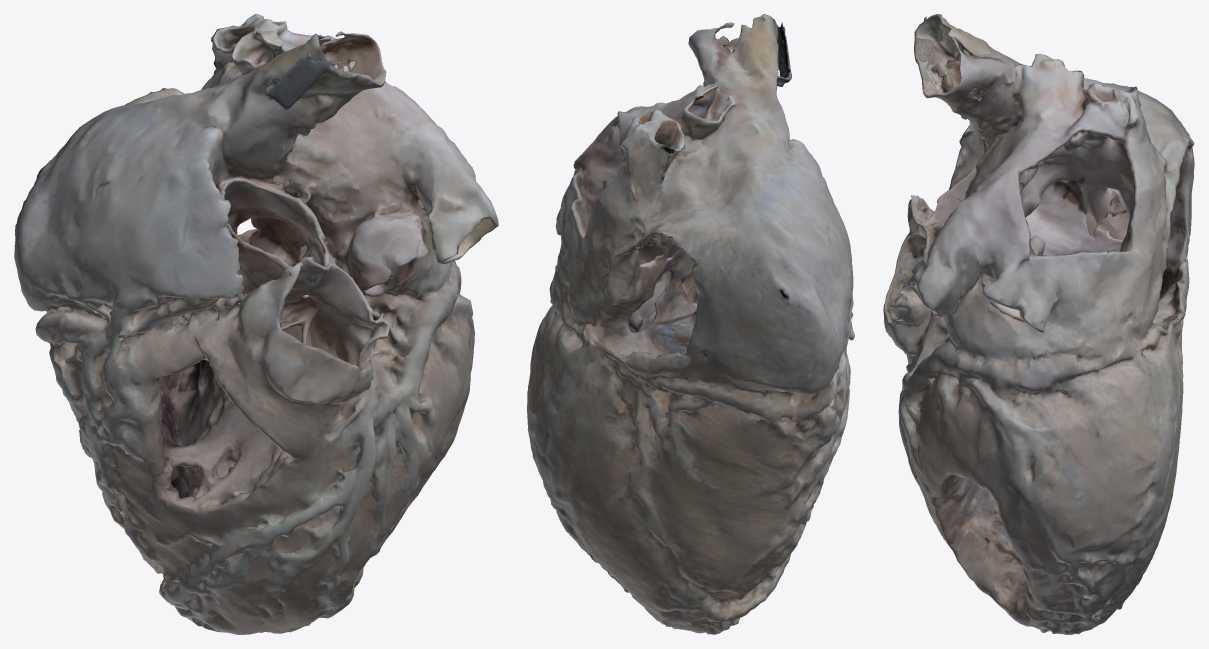
The model's file is FBX_Heart2.fbx.
3 views of the same model, side by side, from view 1: azimuth 30°, elevation 25°; view 2: azimuth 150°, elevation 25°; view 3: azimuth 270°, elevation 25° (orthographic). The views are drawn at different scales.
Visible parts, largest first — view 1: Heart_100K_june20_2019:Mesh; view 2: Heart_100K_june20_2019:Mesh; view 3: Heart_100K_june20_2019:Mesh.
Part boxes in pixels (left/top/right/bottom): Heart_100K_june20_2019:Mesh: left=14, top=14, right=498, bottom=634; Heart_100K_june20_2019:Mesh: left=527, top=14, right=854, bottom=634; Heart_100K_june20_2019:Mesh: left=883, top=14, right=1194, bottom=634.
Size of the model in its own units: 0.63 by 1 by 0.4672.
